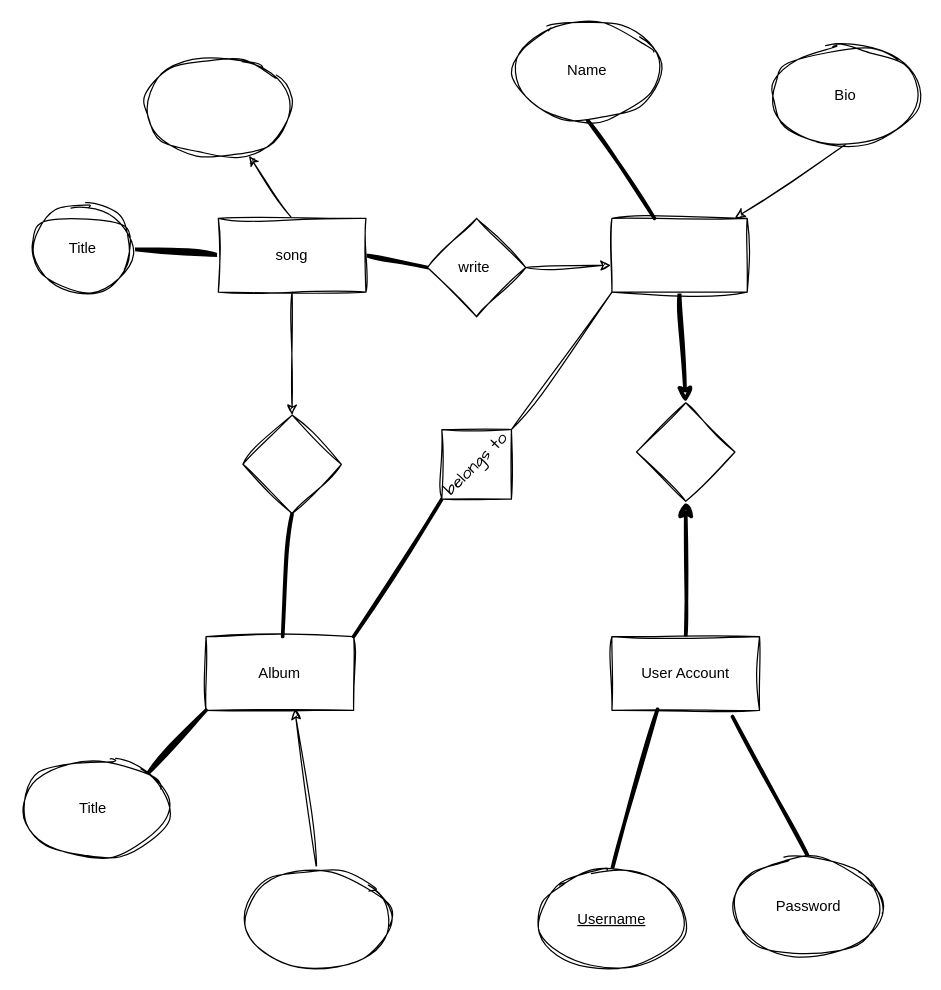
The diagram is 941 pixels wide and 990 high, and some of its shapes have lost their labels. The centre of each missing label's shape, as x and y in pixels:
"Artist" goes at (679,254).
"Artwork" goes at (316,919).
"belongs" goes at (291,464).
"Has" goes at (685,451).
"length" goes at (217,107).
